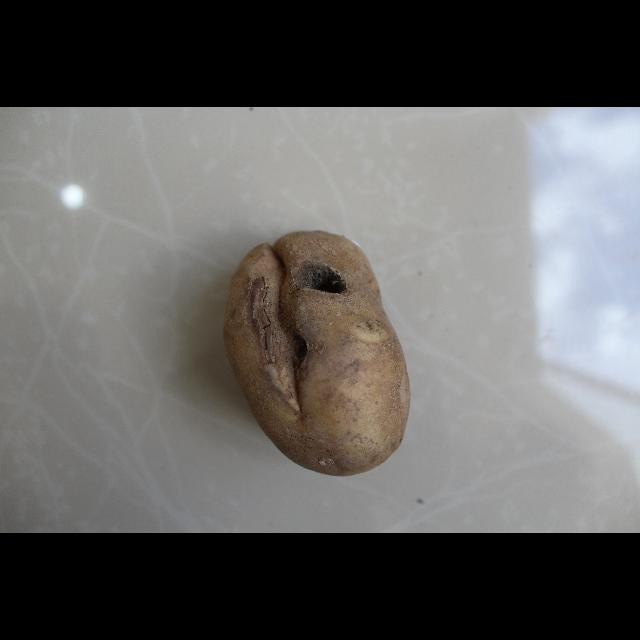Damaged potato: (219, 228, 415, 480)
